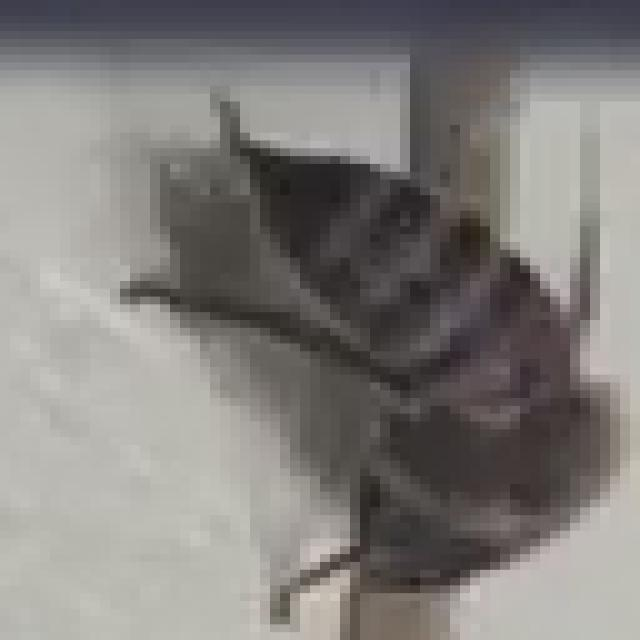honeybee: (88, 76, 640, 640)
